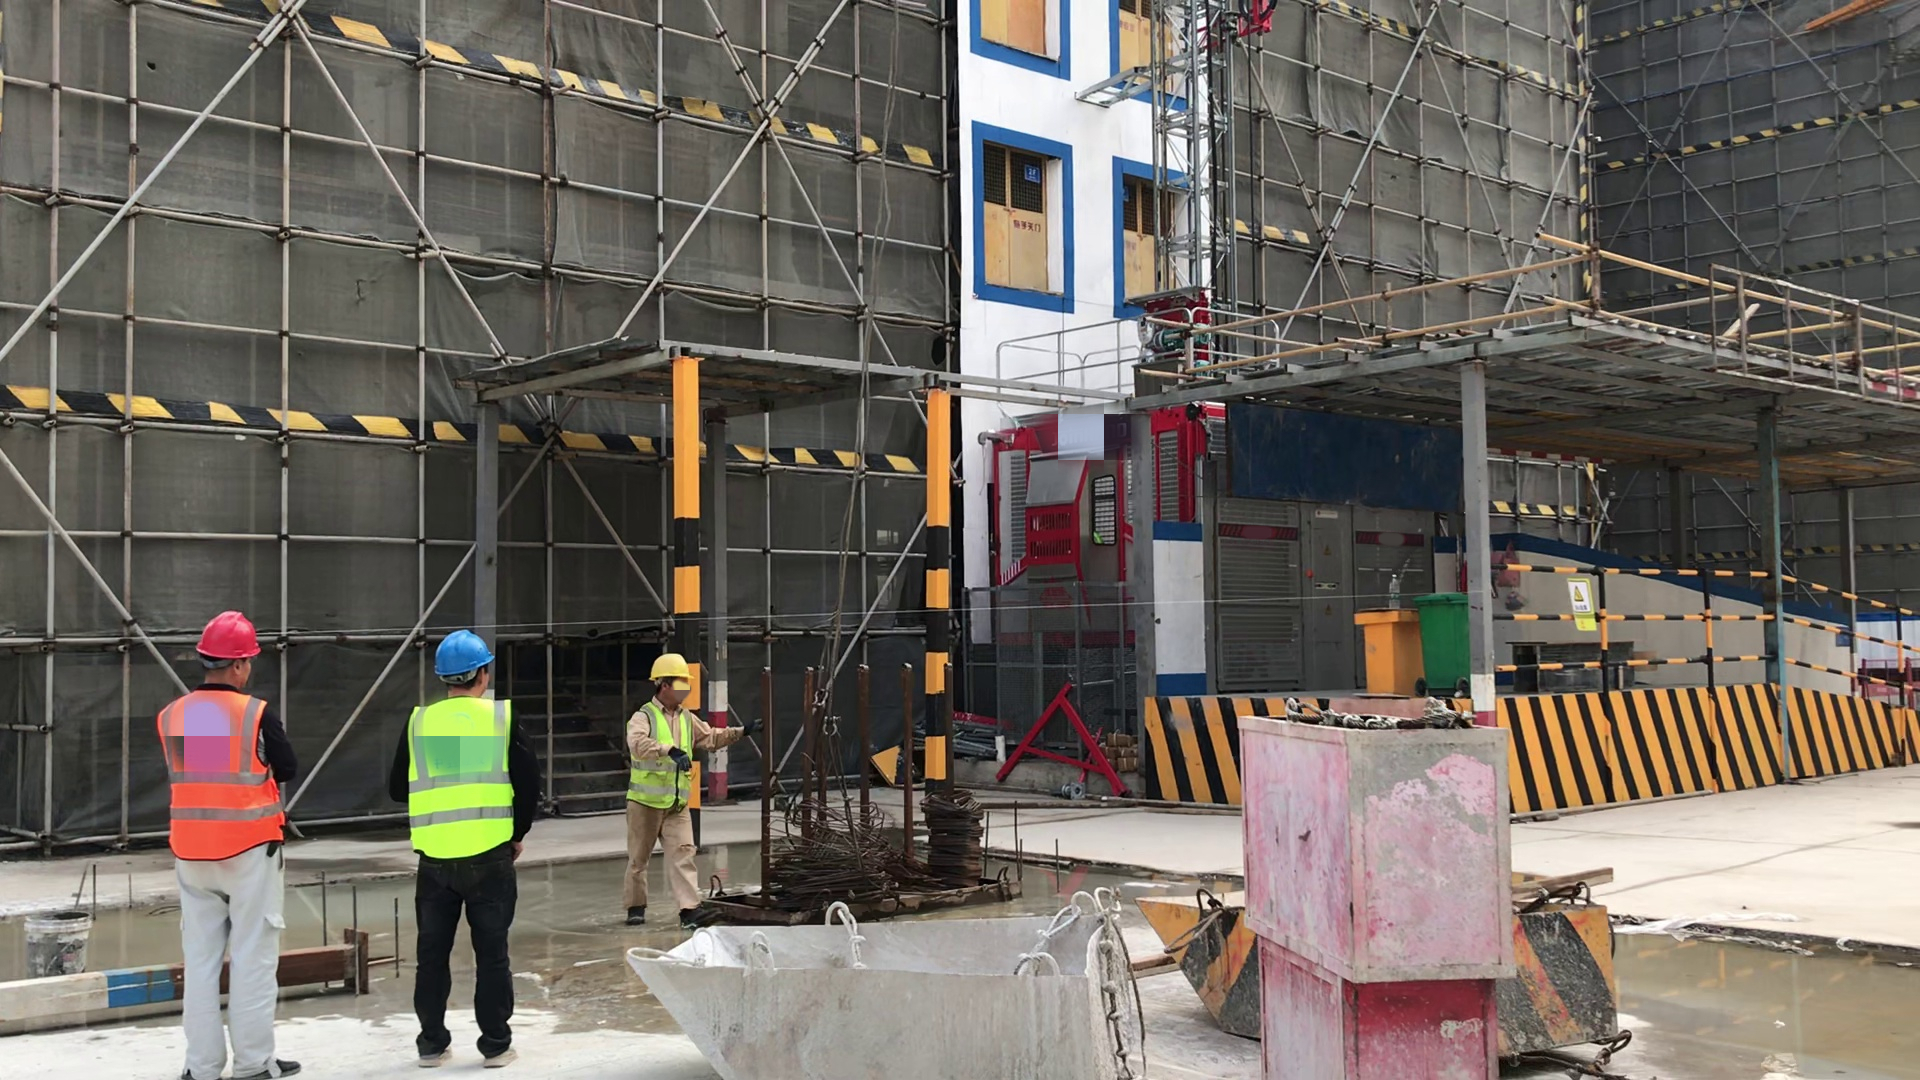helmet: (188, 609, 262, 663), (429, 627, 500, 680), (636, 655, 701, 686)
person: (154, 608, 306, 1080), (385, 626, 541, 1073), (621, 649, 768, 930)
vest: (158, 687, 291, 856), (399, 694, 515, 860), (631, 699, 702, 813)
